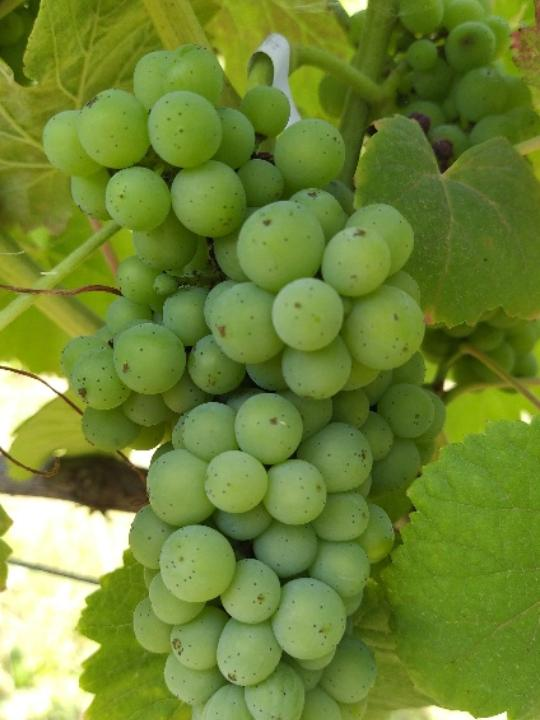grape: (42, 43, 450, 720)
